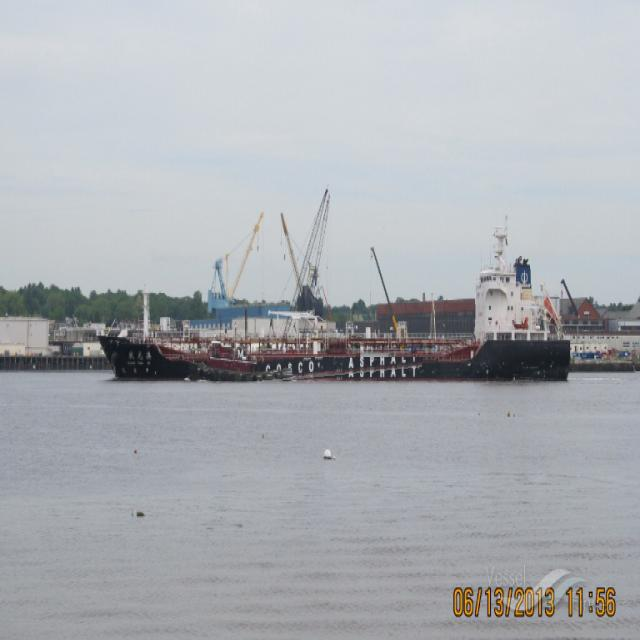OCR: (257, 357, 423, 383)
